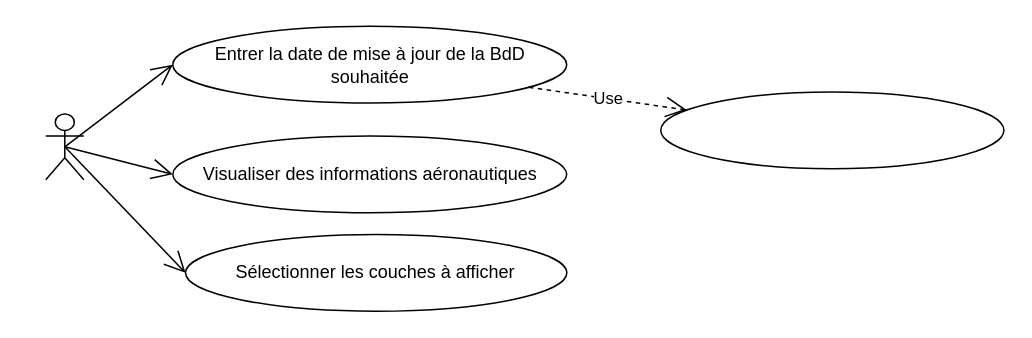
Image size: 1032x338. Some labels were removed from this diagram. Here are the shapes that lost their labels. From the top down, the centre of each, then its label:
pixel 64 146: Utilisateur
pixel 831 129: Récupérer le tableau de la BdD en question
